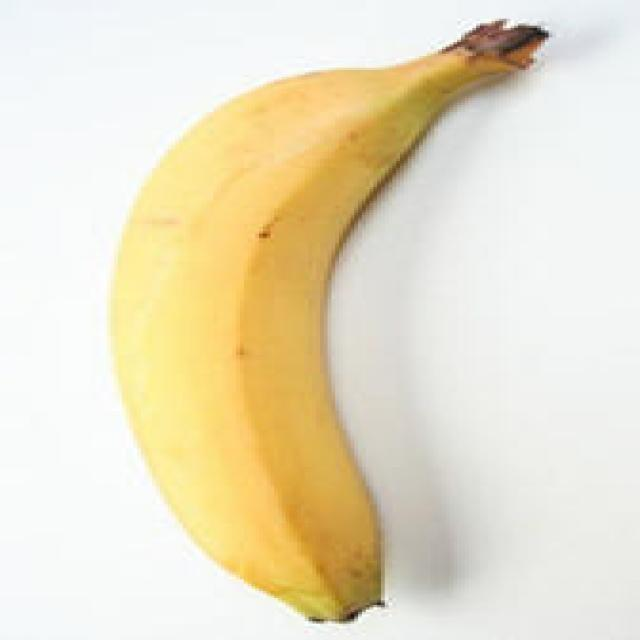Banana: (96, 20, 581, 626)
